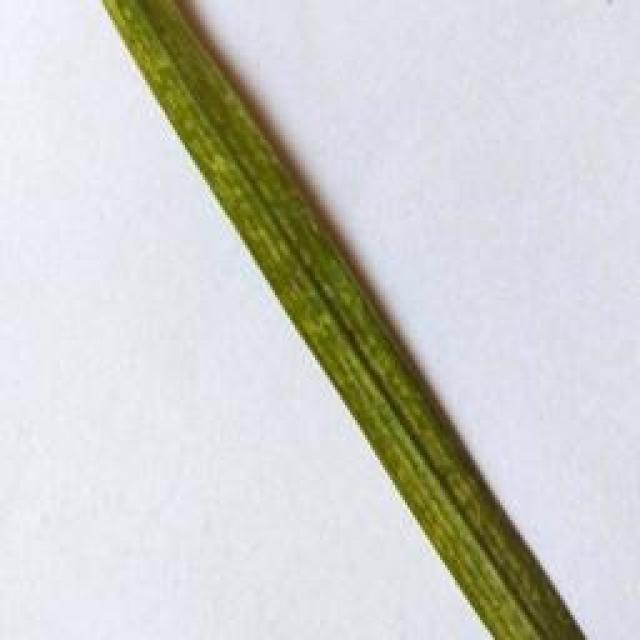Healthy-Plant: (101, 0, 583, 640)
